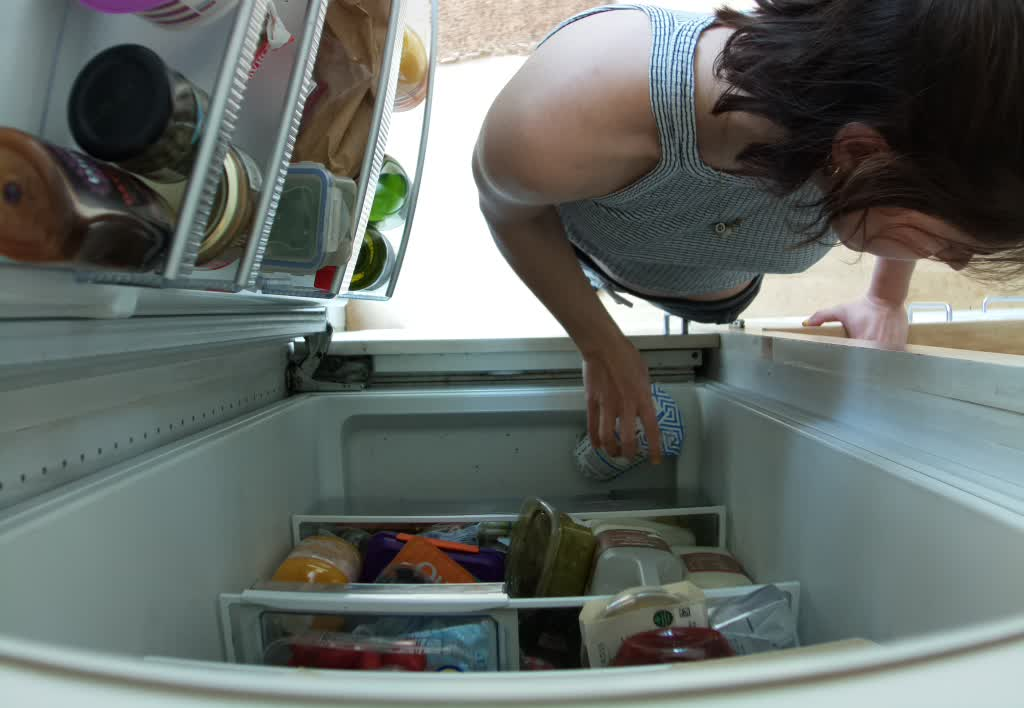yogurt: (570, 382, 687, 484)
